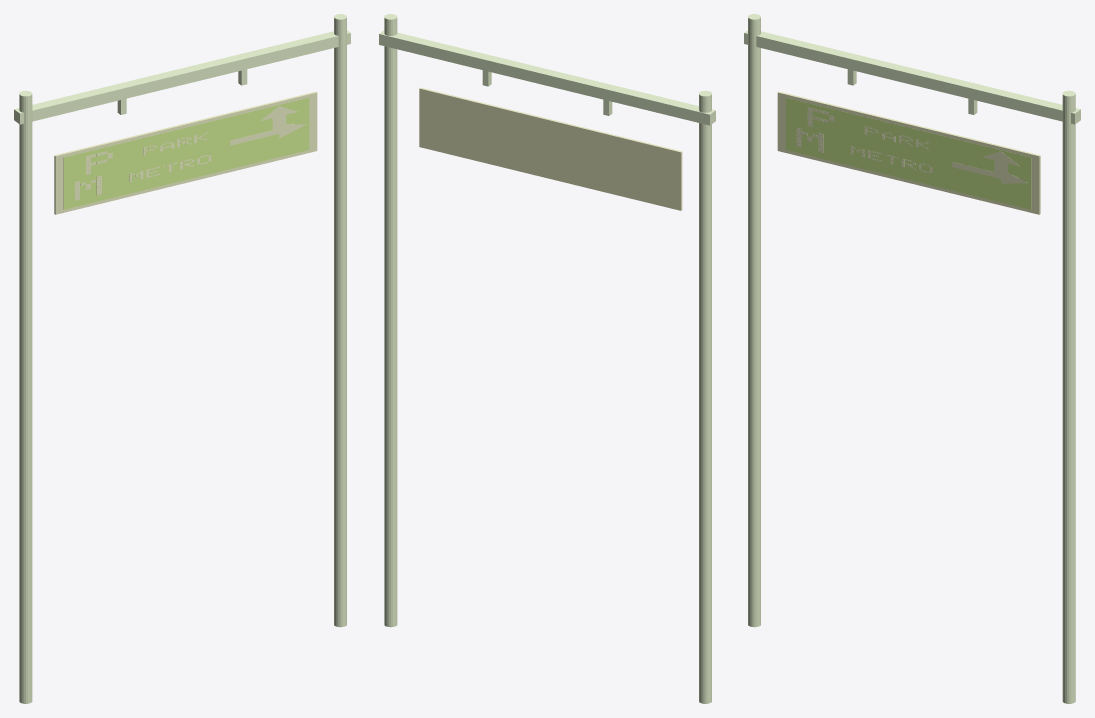
File: sign_overhead_metro_park_right.glb
3 views of the same model, side by side, from view 1: azimuth 30°, elevation 25°; view 2: azimuth 150°, elevation 25°; view 3: azimuth 330°, elevation 25° (orthographic).
Visible parts, largest first — view 1: layer_1_00, pole_left, pole_right, crossbar, plate_base_00; view 2: plate_base_00, pole_right, pole_left, crossbar; view 3: layer_1_00, pole_right, pole_left, crossbar, plate_base_00.
Part boxes in pixels (x1,y1,x2,y2): layer_1_00: [63, 97, 309, 209]; pole_left: [19, 90, 32, 703]; pole_right: [334, 14, 346, 627]; crossbar: [14, 30, 350, 124]; plate_base_00: [54, 91, 317, 214]; plate_base_00: [419, 87, 682, 210]; pole_right: [384, 14, 397, 627]; pole_left: [699, 90, 711, 703]; crossbar: [379, 30, 715, 125]; layer_1_00: [785, 97, 1031, 209]; pole_right: [1062, 90, 1075, 703]; pole_left: [748, 14, 760, 627]; crossbar: [744, 30, 1080, 124]; plate_base_00: [777, 91, 1040, 214].
Size of the model in its own units: 2.85 by 5 by 0.108.
